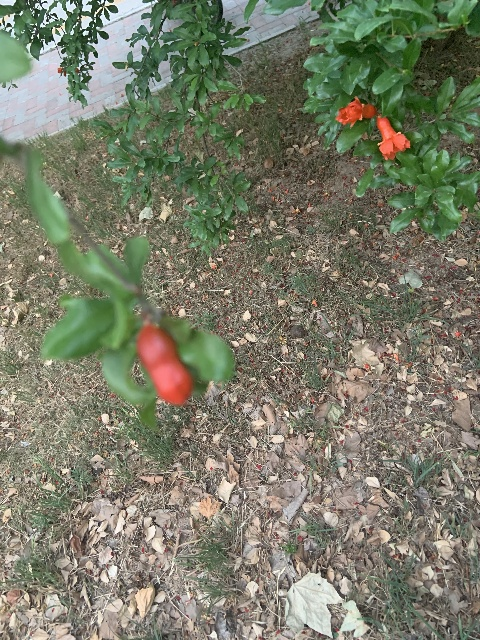bud: (135, 323, 193, 406)
flower: (374, 116, 410, 160), (335, 95, 375, 127), (57, 66, 63, 73)
